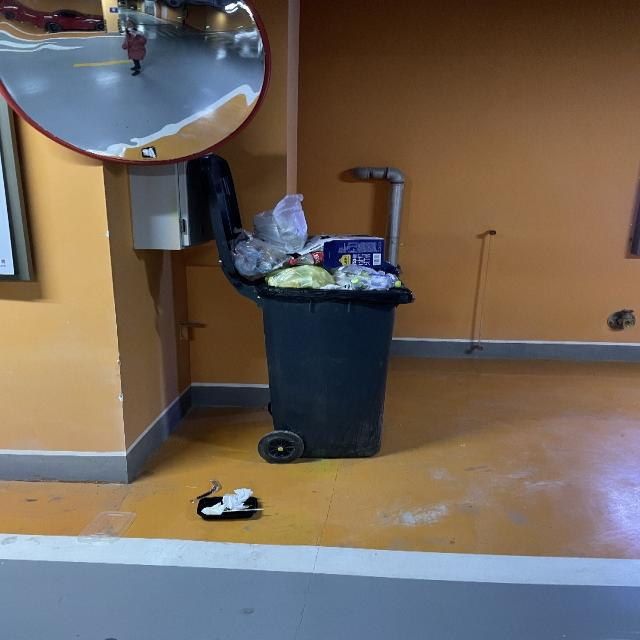garbage: (190, 478, 260, 521)
overflow: (232, 193, 413, 459)
